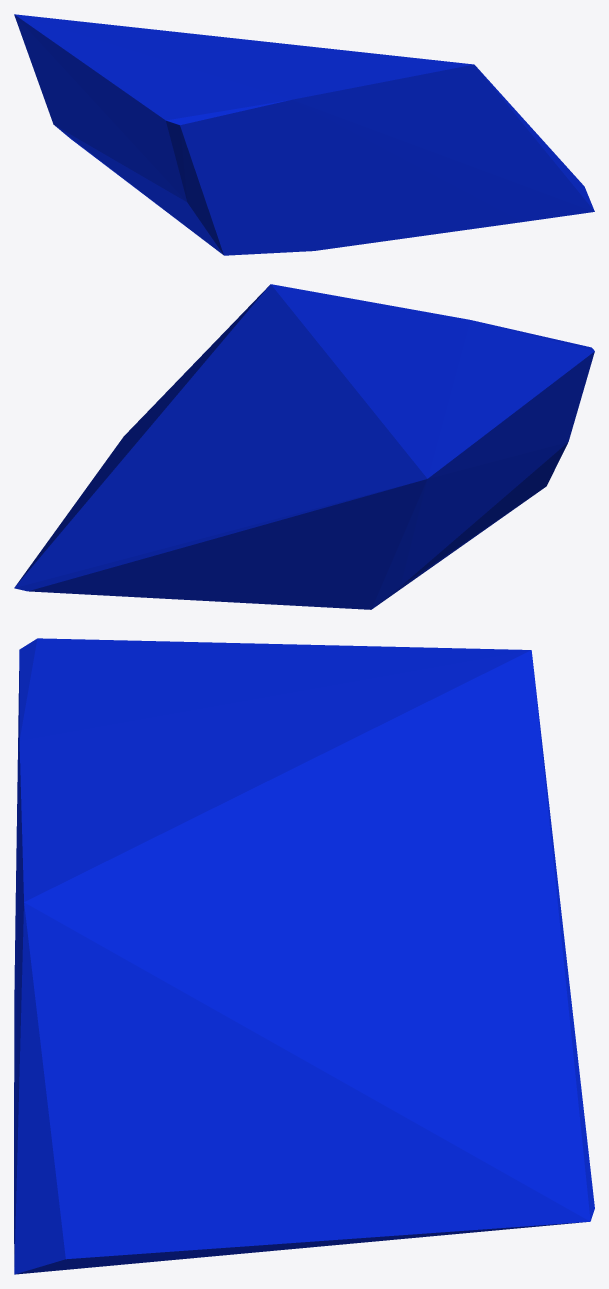
File: shoulder-roll-housing_convex_piece_003.obj
The picture shows the model from 3 angles, top to bottom: view 1: azimuth 30°, elevation 25°; view 2: azimuth 150°, elevation 25°; view 3: azimuth 270°, elevation 25°; orthographic projection. The views are drawn at different scales.
Bounding box in the file's own units: 0.0711 × 0.0301 × 0.052.
